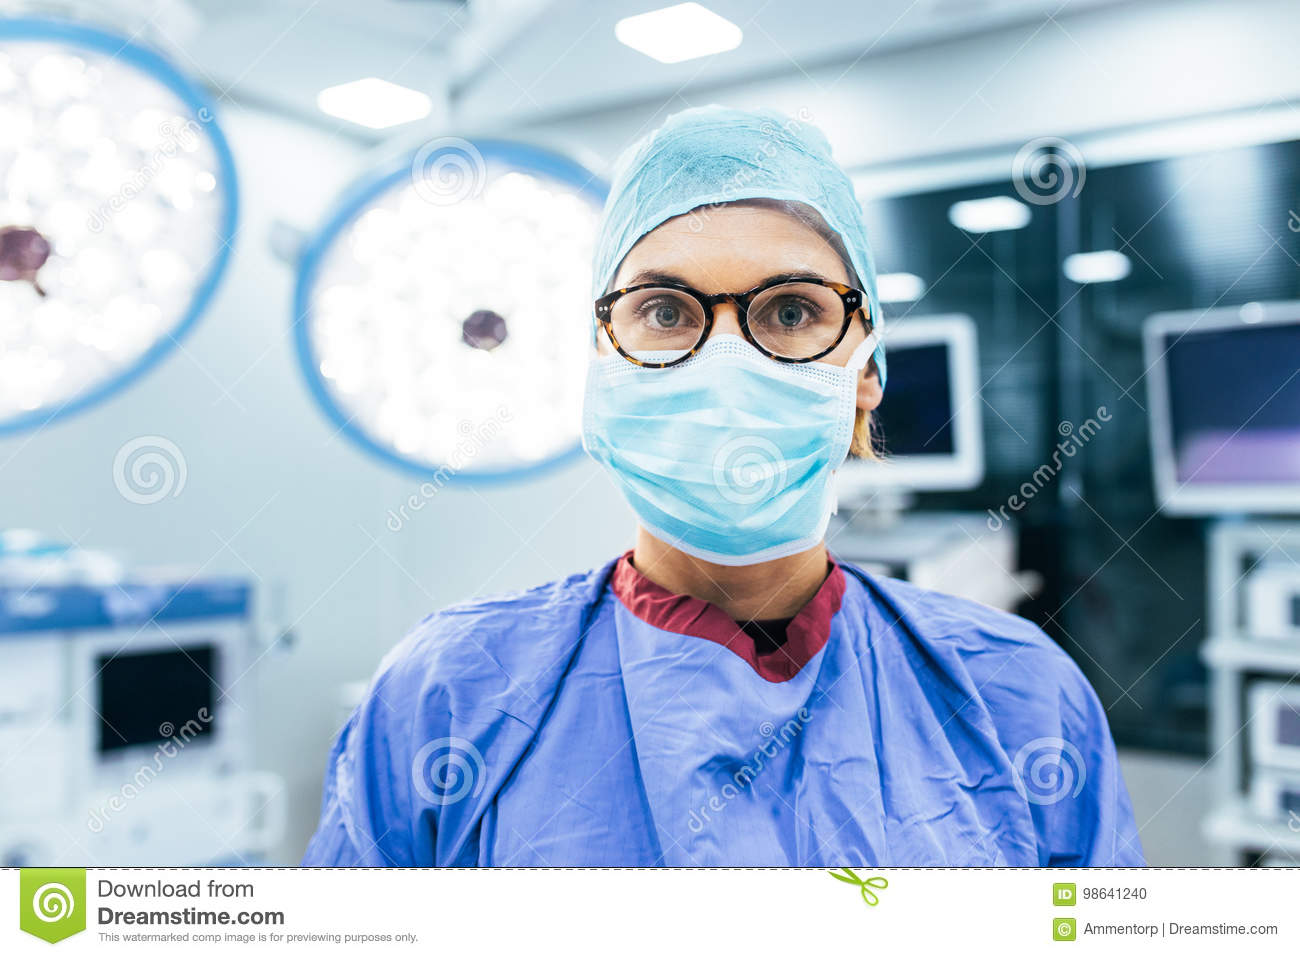mask: (583, 342, 858, 567)
